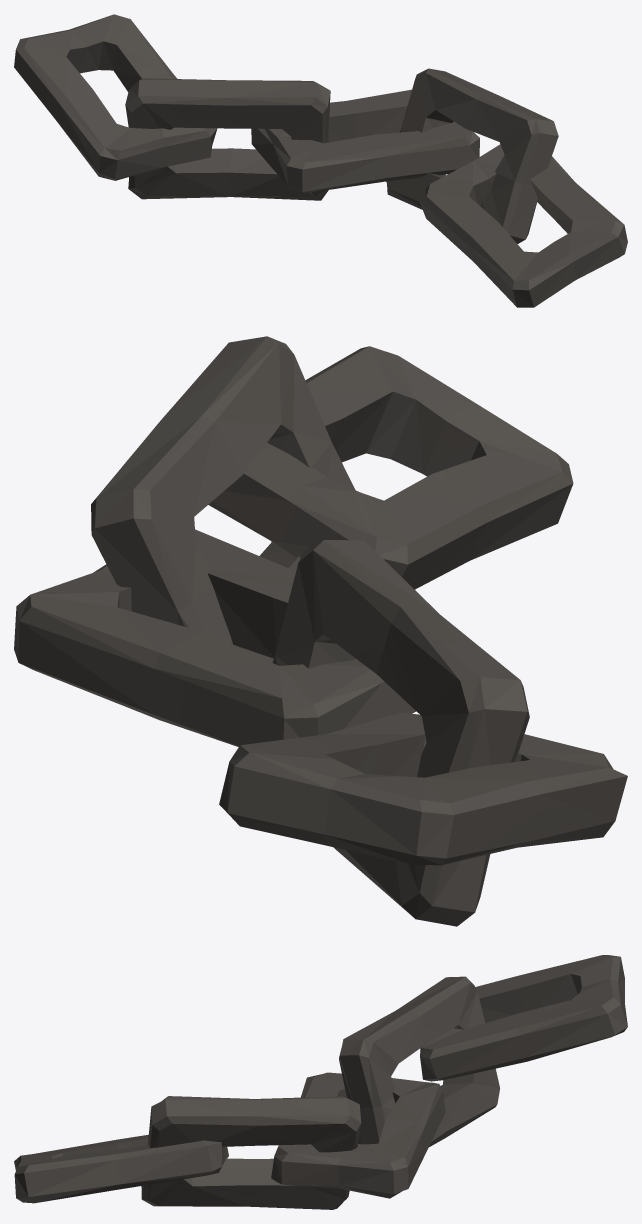
The model's file is loreBookChain01.fbx.
3 views of the same model, one above another, from view 1: azimuth 30°, elevation 25°; view 2: azimuth 150°, elevation 25°; view 3: azimuth 270°, elevation 25° (orthographic). The views are drawn at different scales.
Visible parts, largest first — view 1: loreBookChain01; view 2: loreBookChain01; view 3: loreBookChain01.
Boxes of the visible parts, x1,y1,x2,y2 form: loreBookChain01: (14,14,627,307); loreBookChain01: (14,336,627,926); loreBookChain01: (14,955,627,1209).
Bounding box in the file's own units: 2.34 × 0.8642 × 3.57.
1 material, 1 textured.
